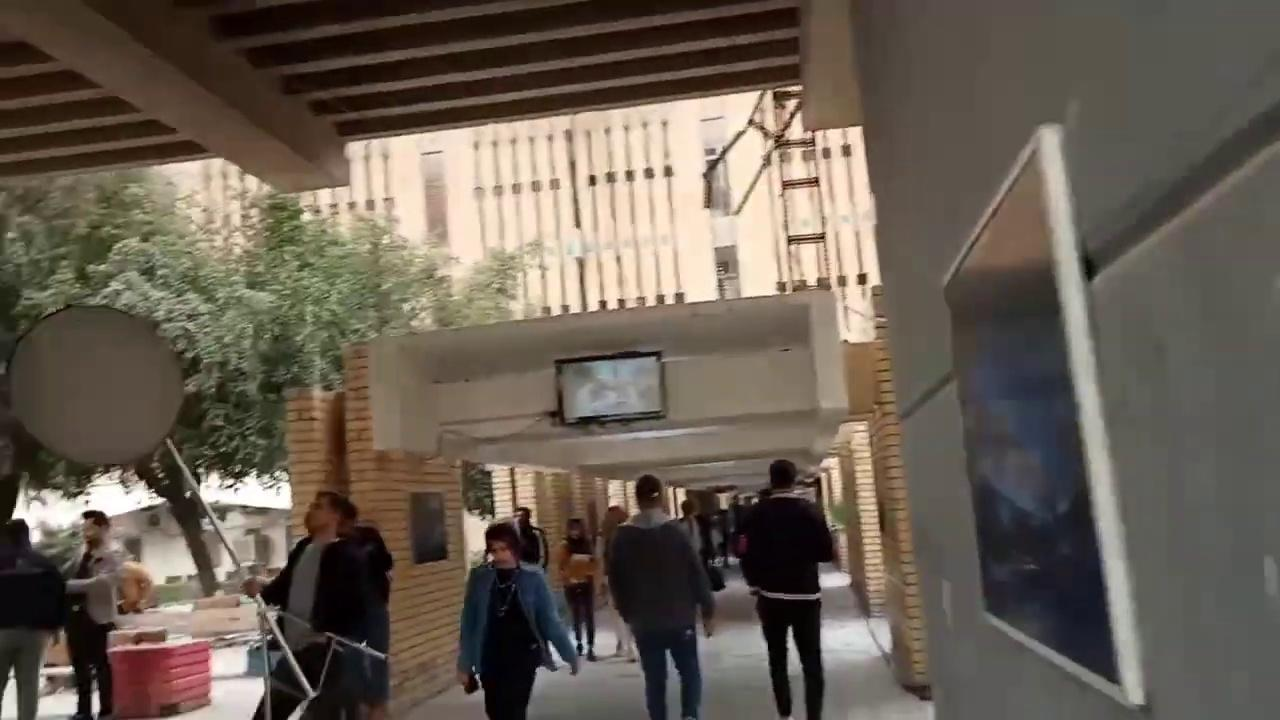person: (240, 489, 389, 719), (607, 473, 715, 719), (736, 458, 834, 719), (455, 522, 579, 719), (62, 509, 136, 719), (0, 517, 66, 719), (557, 517, 599, 662), (600, 505, 638, 662), (509, 506, 549, 572)
tree: (0, 163, 548, 597)
